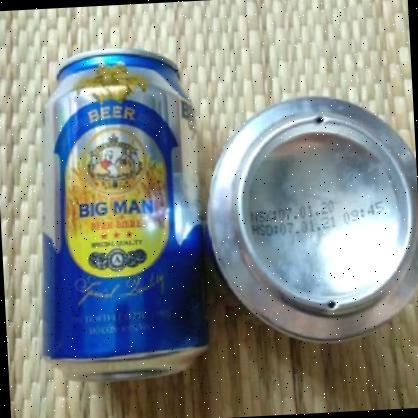can: (26, 44, 211, 382)
